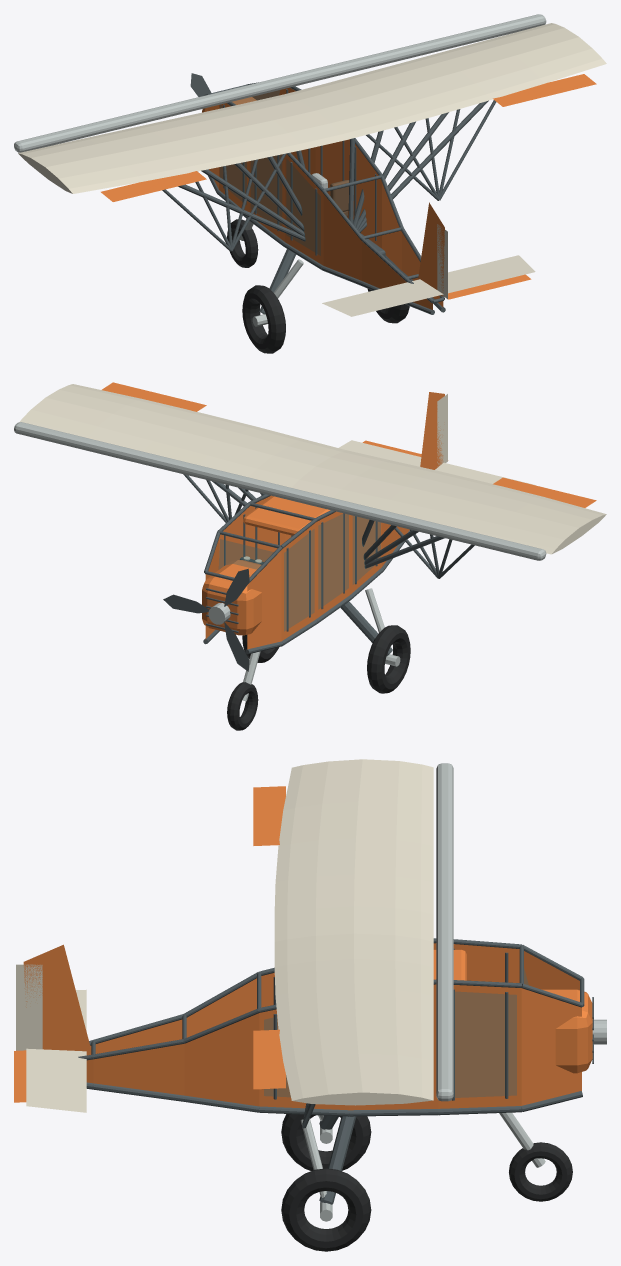
Rendered from zenith_ch701.glb.
3 renders of one model, top to bottom at view 1: azimuth 30°, elevation 25°; view 2: azimuth 150°, elevation 25°; view 3: azimuth 270°, elevation 25°, orthographic. The views are drawn at different scales.
Visible parts, largest first — view 1: main_wing_left, main_wing_right, fixed leading-edge slat, horizontal_tail, cabin side skin.003, cabin side skin.004, main tundra wheel, panoramic cabin glazing.002, cabin side skin.010, cabin side skin.002, vertical_fin, cabin side skin.009 (+17 smaller); view 2: main_wing_left, main_wing_right, fixed leading-edge slat, cabin side skin.002, cabin side skin.001, angular engine cowling, panoramic cabin glazing, panoramic cabin glazing.001, cabin side skin, main tundra wheel, cabin roof, horizontal_tail (+14 smaller); view 3: main_wing_right, main_wing_left, cabin side skin.008, panoramic cabin glazing.003, fixed leading-edge slat, cabin side skin.011, cabin side skin.007, main tundra wheel.001, vertical_fin, horizontal_tail, cabin side skin.012, angular engine cowling (+13 smaller).
Part boxes in pixels (x1=…): main_wing_left: x1=285, y1=23, x2=606, y2=139; main_wing_right: x1=18, y1=94, x2=346, y2=193; fixed leading-edge slat: x1=14, y1=14, x2=546, y2=152; horizontal_tail: x1=322, y1=255, x2=535, y2=316; cabin side skin.003: x1=285, y1=154, x2=323, y2=265; cabin side skin.004: x1=323, y1=194, x2=361, y2=280; main tundra wheel: x1=242, y1=285, x2=285, y2=353; panoramic cabin glazing.002: x1=286, y1=159, x2=320, y2=255; cabin side skin.010: x1=353, y1=144, x2=381, y2=248; cabin side skin.002: x1=249, y1=154, x2=284, y2=241; vertical_fin: x1=418, y1=202, x2=444, y2=296; cabin side skin.009: x1=315, y1=139, x2=349, y2=218; main_wing_left: x1=19, y1=384, x2=345, y2=487; main_wing_right: x1=291, y1=450, x2=606, y2=554; fixed leading-edge slat: x1=14, y1=422, x2=546, y2=560; cabin side skin.002: x1=315, y1=511, x2=349, y2=618; cabin side skin.001: x1=281, y1=523, x2=315, y2=641; angular engine cowling: x1=202, y1=560, x2=261, y2=635; panoramic cabin glazing: x1=284, y1=529, x2=314, y2=631; panoramic cabin glazing.001: x1=318, y1=513, x2=348, y2=609; cabin side skin: x1=247, y1=550, x2=281, y2=649; main tundra wheel: x1=367, y1=625, x2=410, y2=693; cabin roof: x1=243, y1=496, x2=330, y2=535; horizontal_tail: x1=339, y1=440, x2=535, y2=485; main_wing_right: x1=274, y1=759, x2=433, y2=941; main_wing_left: x1=274, y1=933, x2=433, y2=1105; cabin side skin.008: x1=438, y1=985, x2=521, y2=1108; panoramic cabin glazing.003: x1=454, y1=992, x2=516, y2=1097; fixed leading-edge slat: x1=436, y1=763, x2=453, y2=1101; cabin side skin.011: x1=184, y1=1013, x2=259, y2=1106; cabin side skin.007: x1=521, y1=988, x2=581, y2=1105; main tundra wheel.001: x1=281, y1=1168, x2=371, y2=1251; vertical_fin: x1=23, y1=944, x2=91, y2=1055; horizontal_tail: x1=26, y1=989, x2=86, y2=1112; cabin side skin.012: x1=93, y1=1044, x2=184, y2=1095; angular engine cowling: x1=541, y1=989, x2=592, y2=1073.
Size of the model in its own units: 8.23 by 3.29 by 6.19.
